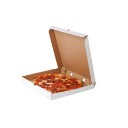pepperonipizza: (33, 73, 85, 92)
